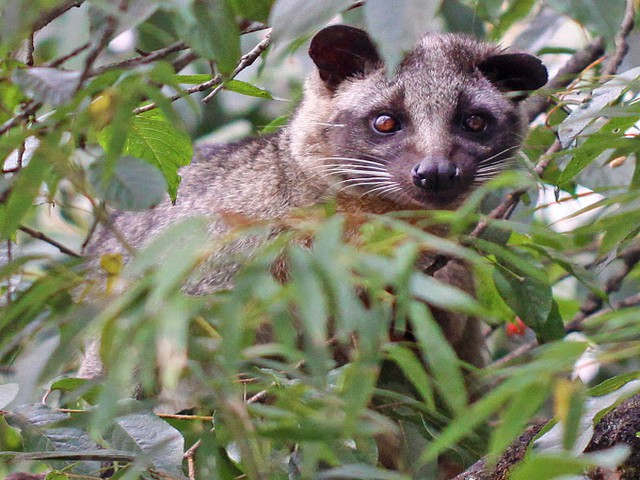civet: (198, 24, 549, 239)
